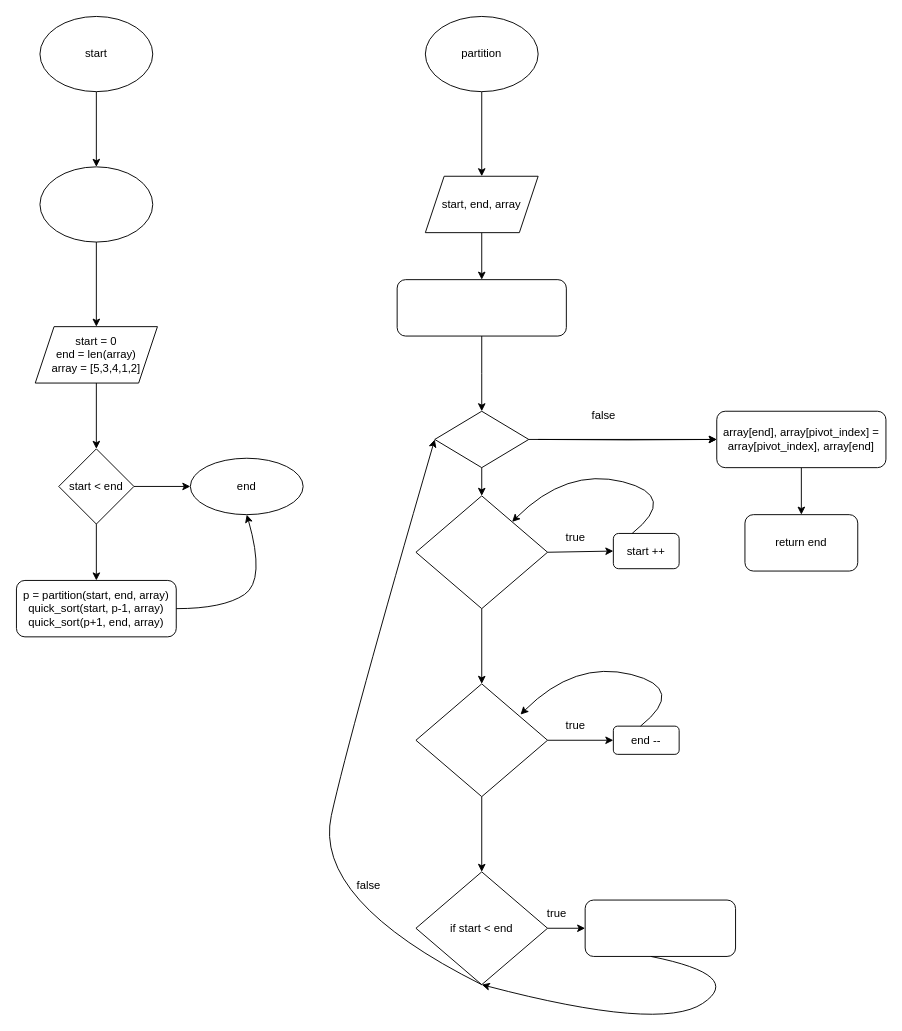
Image size: 902x1031. Some labels were removed from this diagram. Here are the shapes that lost their labels. From the top down, the centre of each, then its label:
[96,204]: quick_sort
[481,307]: pivot_index = start pivot = array[pivot_index]
[481,439]: while start < end
[481,552]: while start < len(array) and array[start] <= pivot:
[481,740]: while array[end] > pivot:
[660,927]: array[start], array[end] = array[end], array[start]
